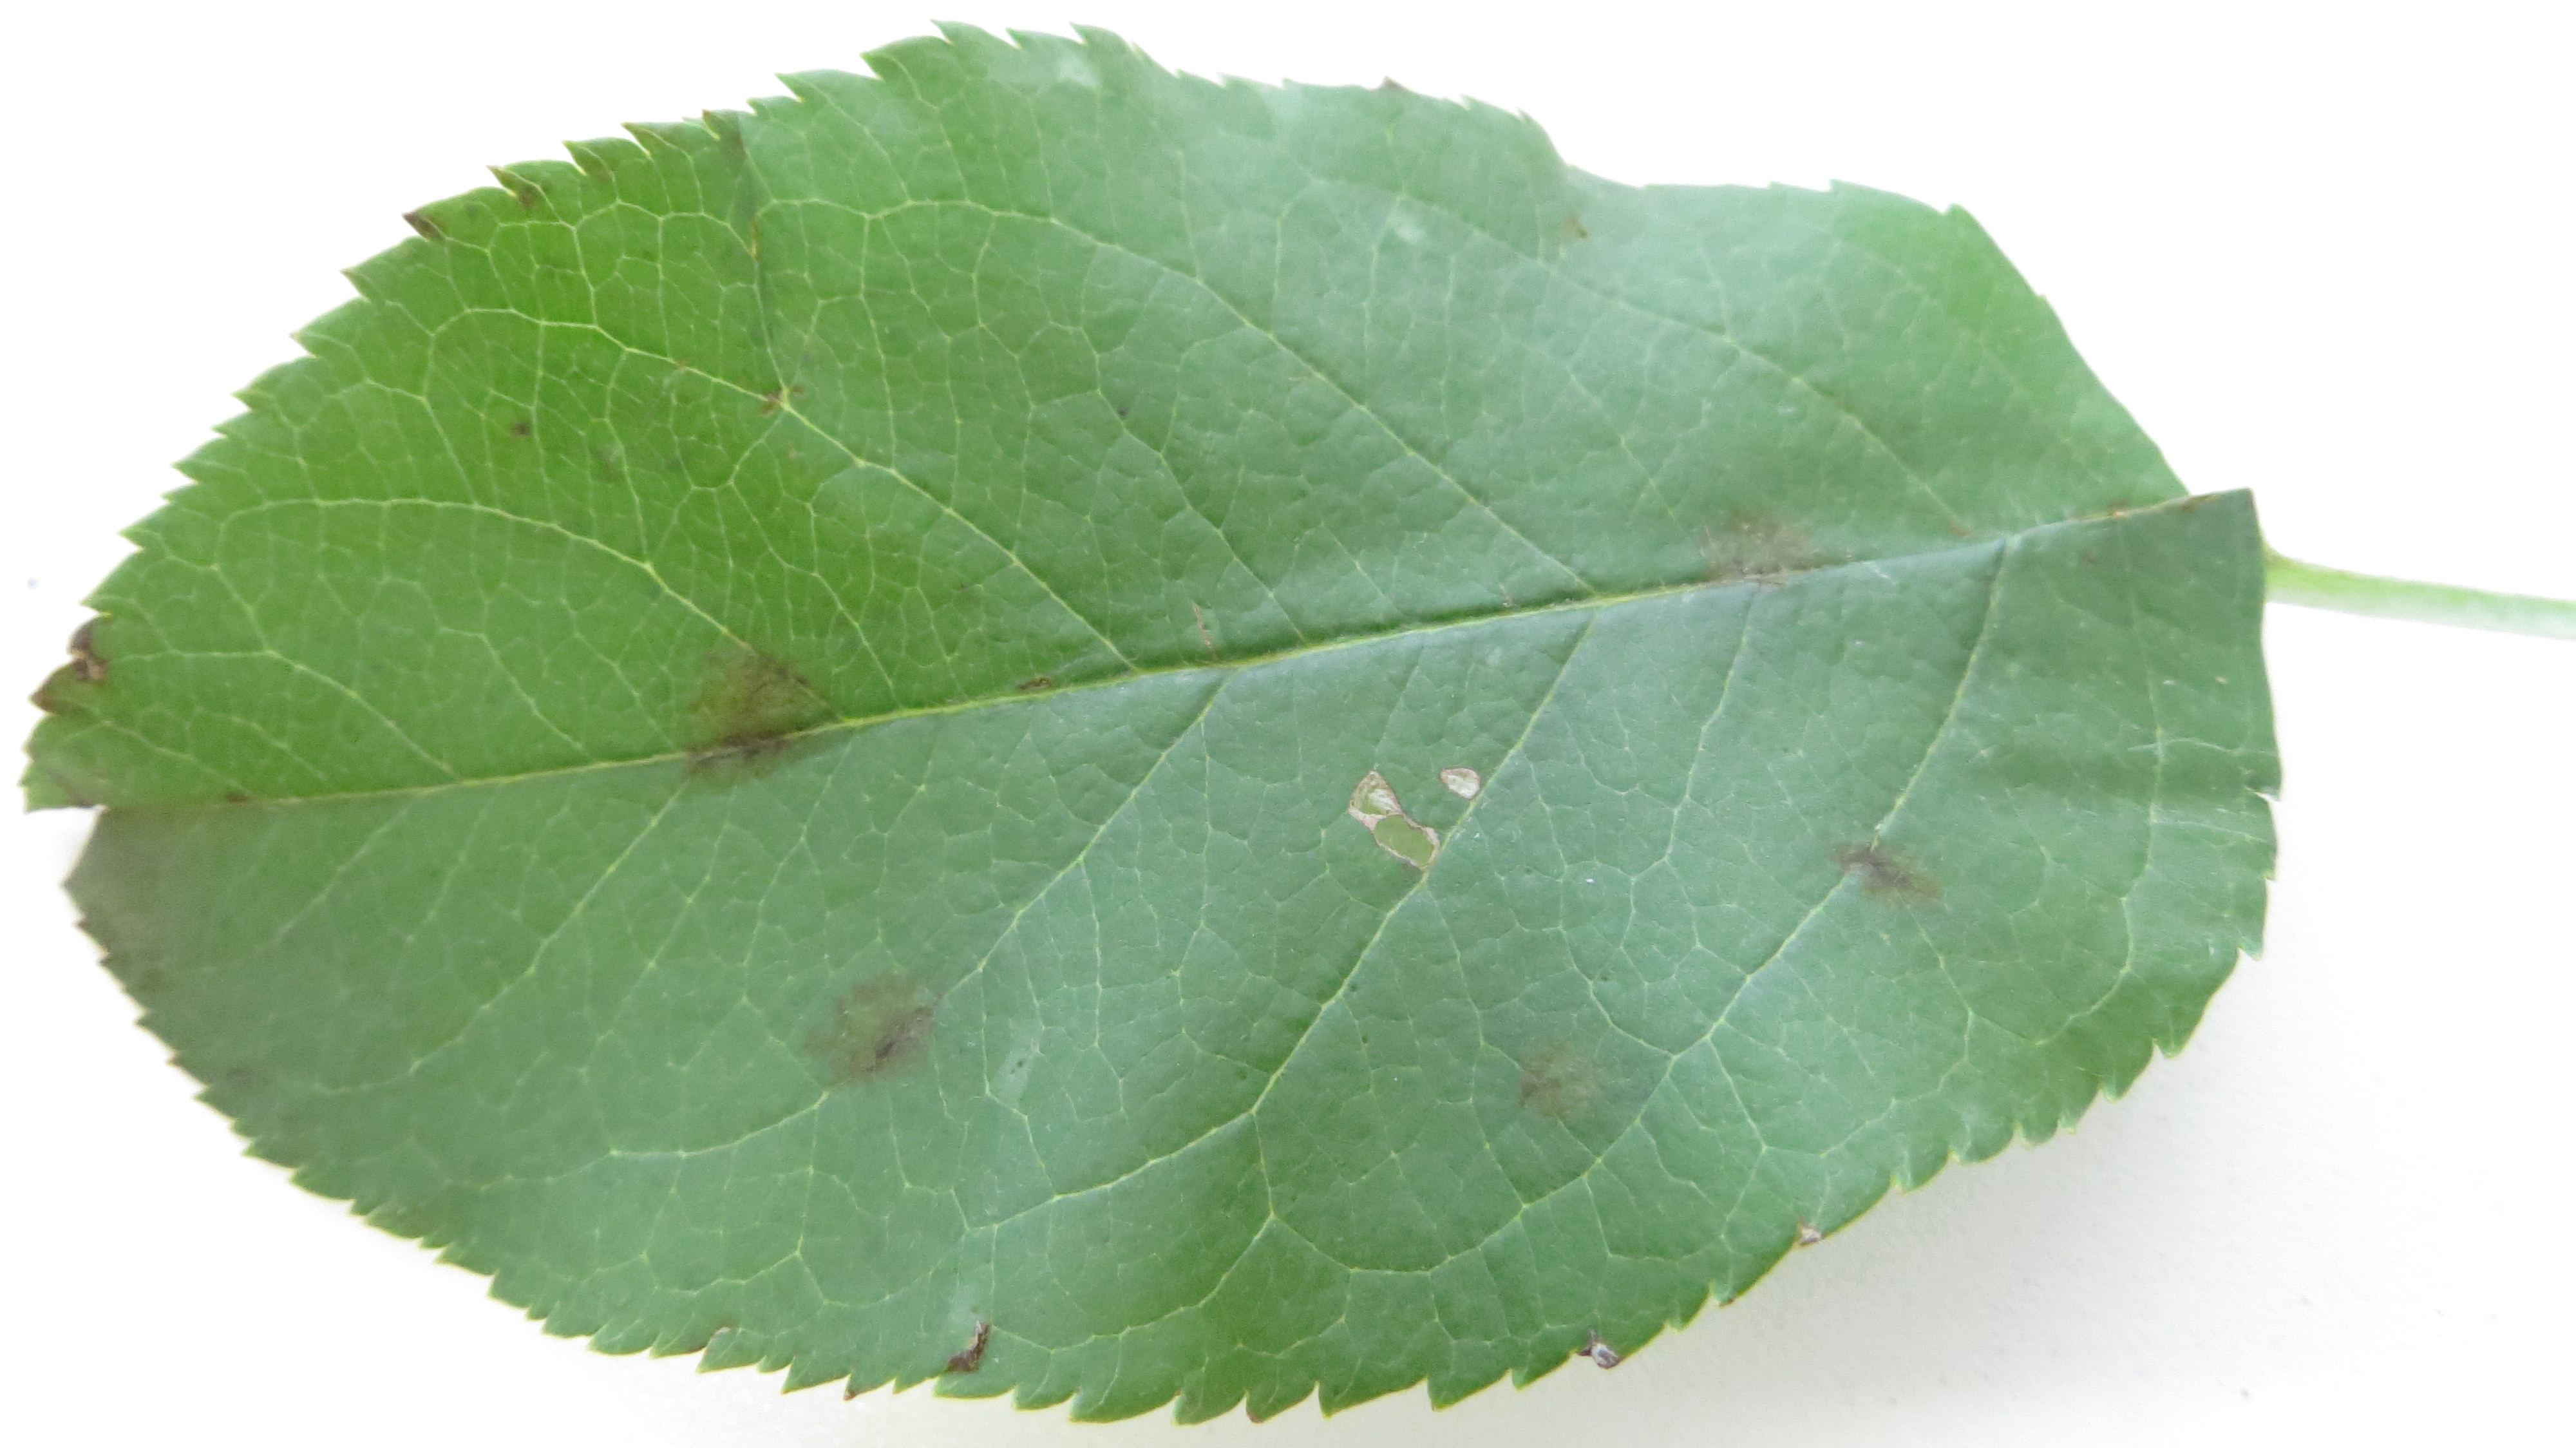sarna: (662, 632, 839, 795), (782, 954, 959, 1101), (1808, 821, 1959, 949), (1672, 485, 1810, 612), (1491, 1027, 1610, 1149), (916, 1294, 1005, 1386)
